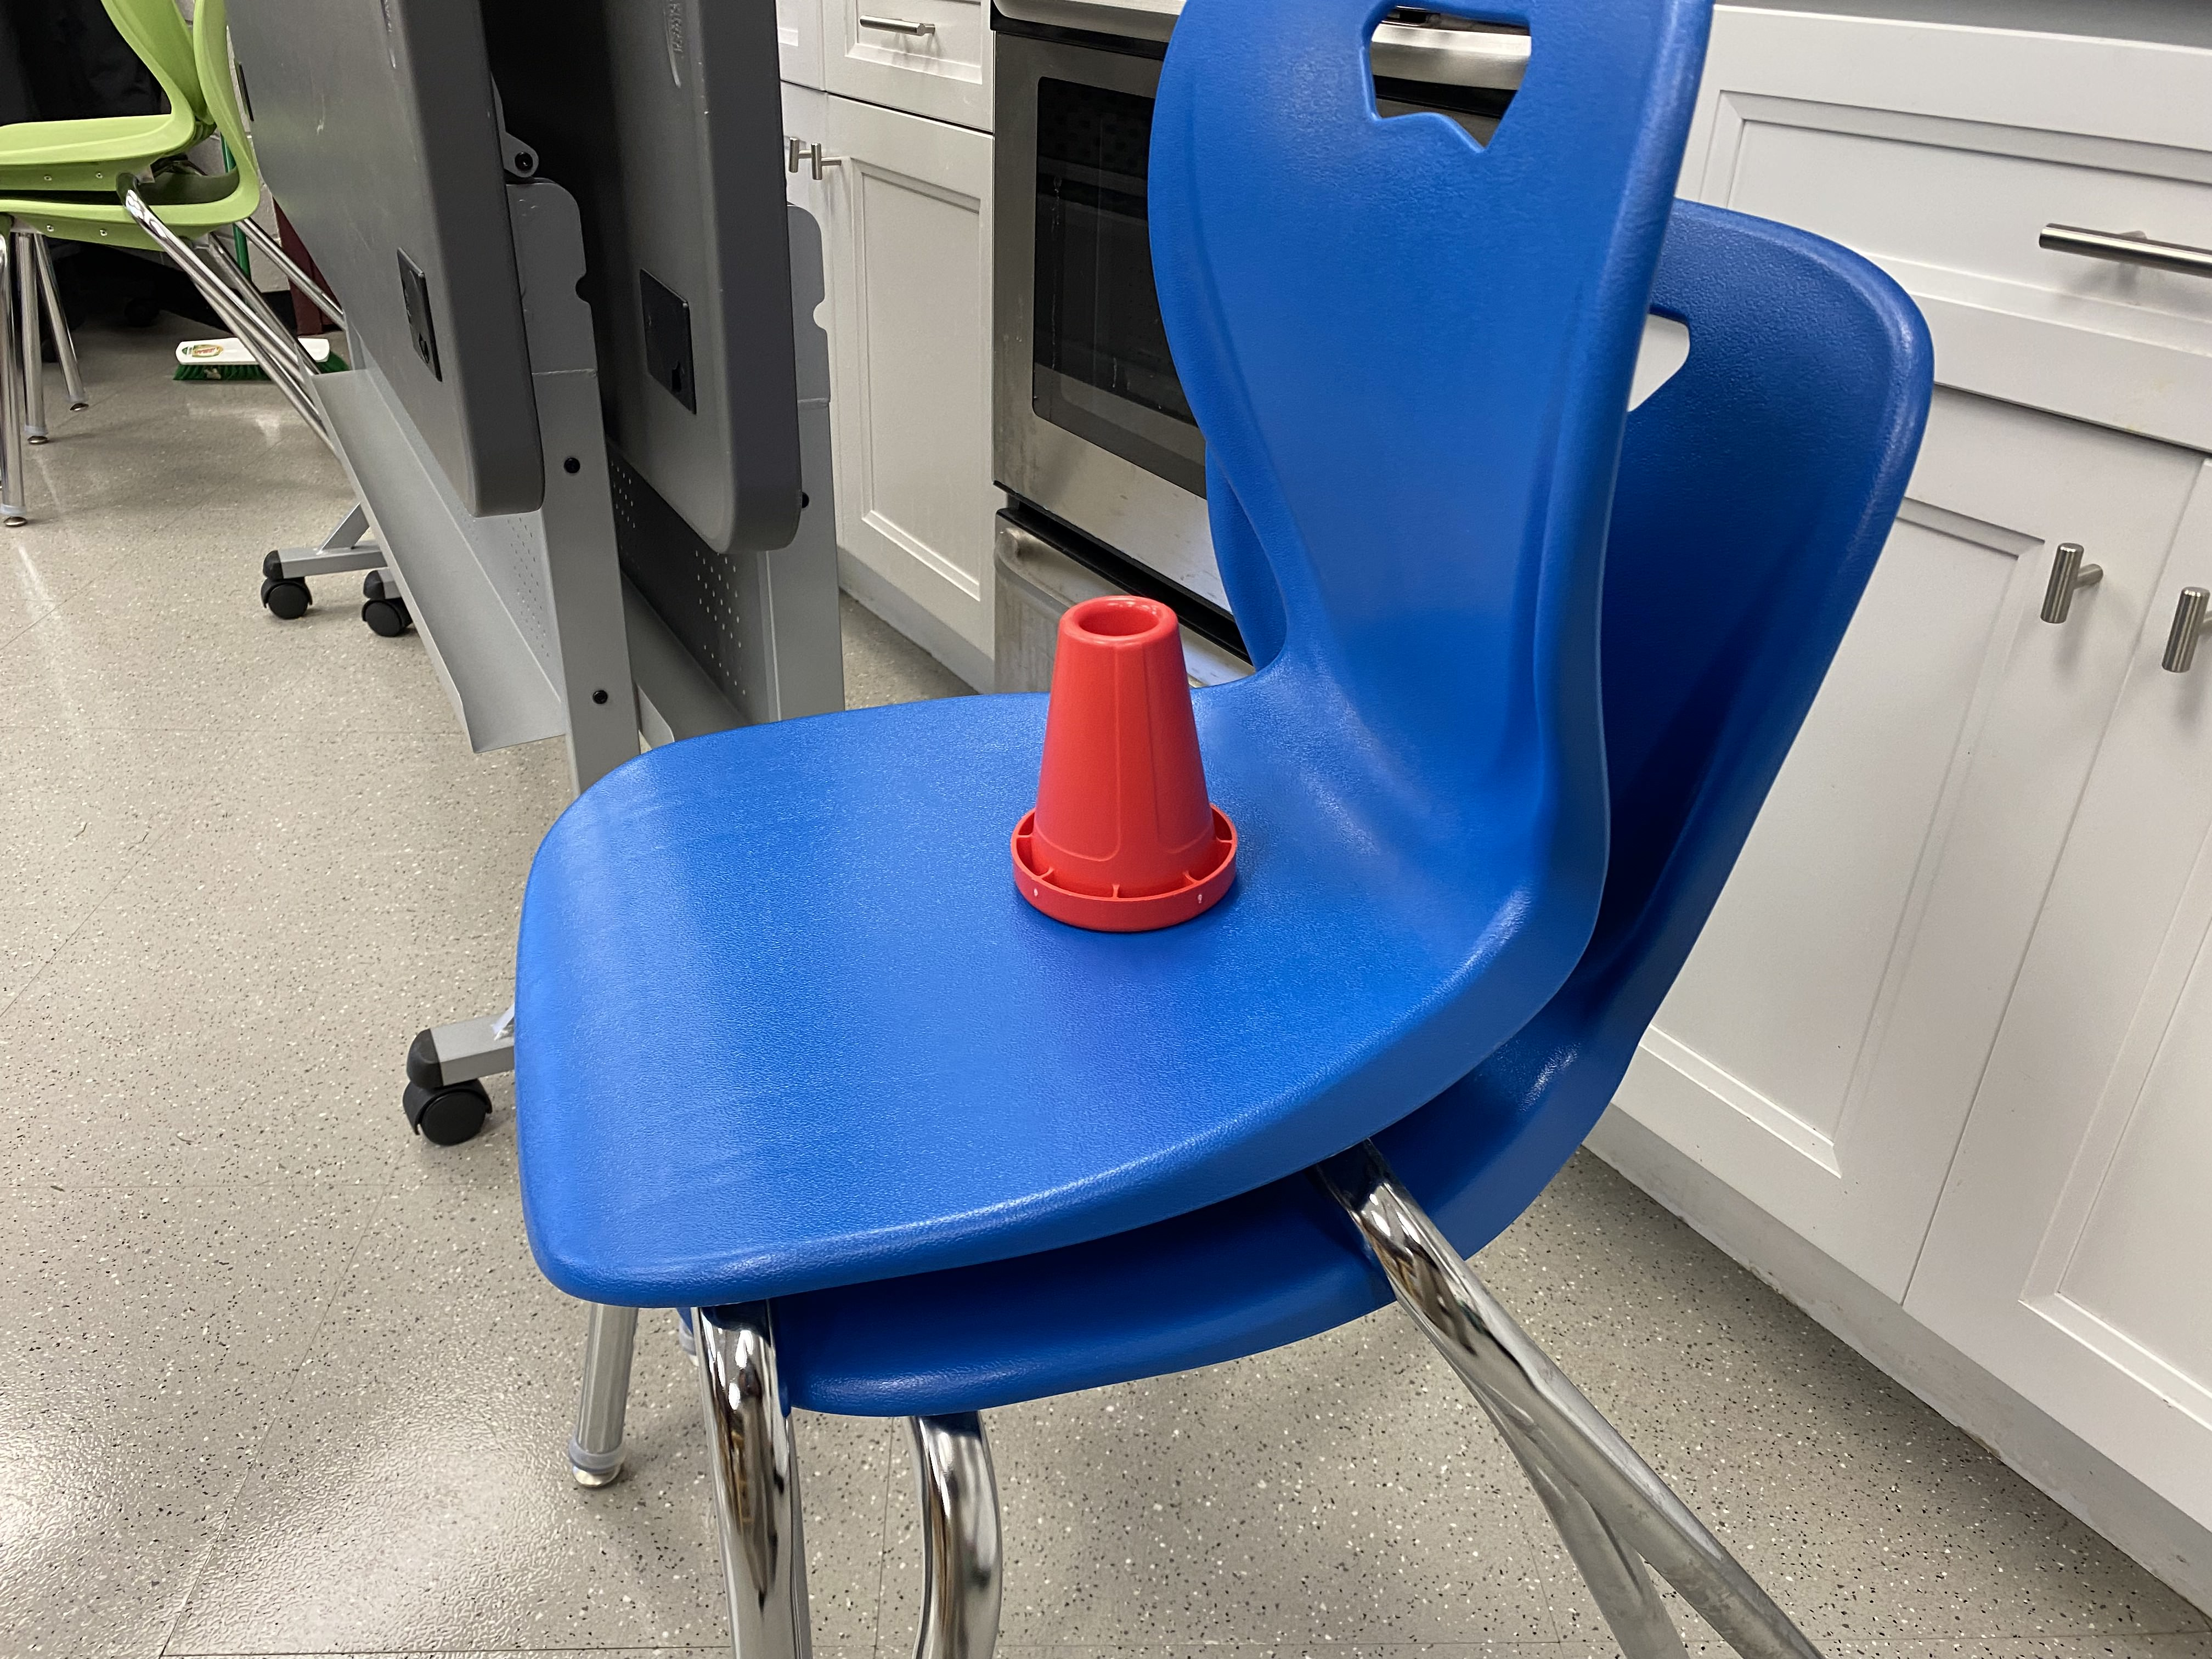redCone: (991, 586, 1258, 945)
